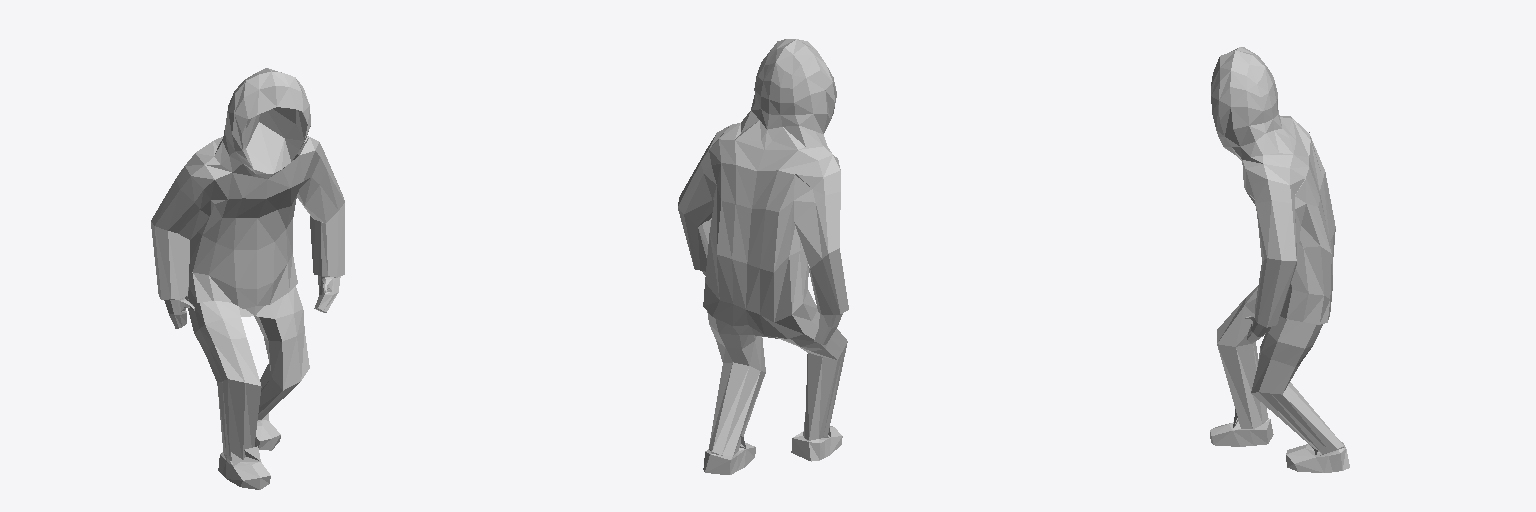
Rendered from Shadowmanv_000025.obj.
3 renders of one model, left to right at view 1: azimuth 30°, elevation 25°; view 2: azimuth 150°, elevation 25°; view 3: azimuth 270°, elevation 25°, orthographic.
Visible parts, largest first — view 1: Cube.000; view 2: Cube.000; view 3: Cube.000.
Part boxes in pixels (bbox=[...]): Cube.000: bbox=[151, 68, 344, 489]; Cube.000: bbox=[678, 39, 848, 474]; Cube.000: bbox=[1210, 47, 1349, 472].
Bounding box in the file's own units: 4.95 × 10.89 × 3.42.